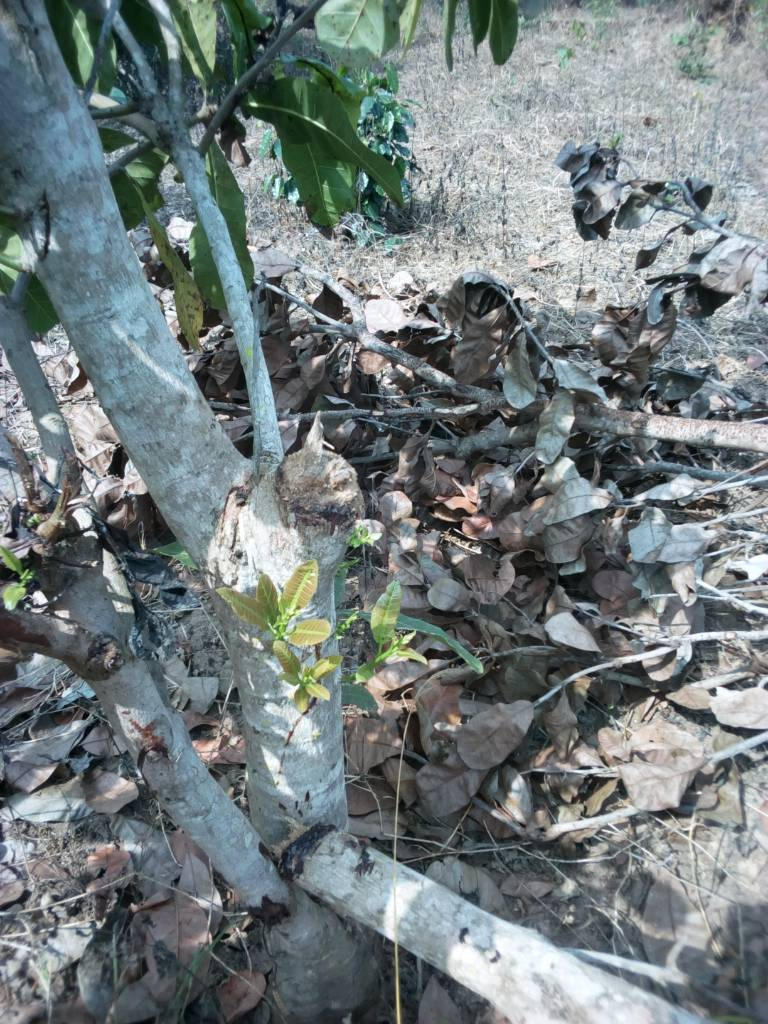Analepse trifasciata: (263, 430, 402, 533)
